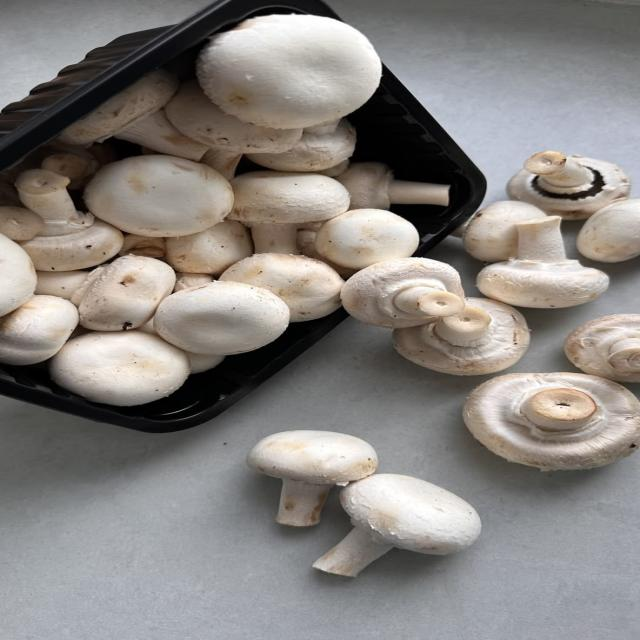champignon mushrooms: (197, 15, 381, 129), (463, 373, 639, 470), (314, 474, 480, 576), (165, 80, 302, 179), (59, 70, 206, 161), (247, 431, 378, 526), (85, 155, 233, 237), (477, 216, 608, 308), (16, 170, 123, 271), (50, 331, 189, 406), (394, 298, 529, 375), (154, 281, 289, 355), (229, 170, 349, 253), (341, 258, 465, 328), (220, 253, 344, 321), (507, 151, 630, 219), (73, 256, 175, 331), (315, 209, 419, 269), (248, 119, 355, 172), (0, 296, 78, 365), (337, 162, 450, 209), (461, 201, 546, 262), (565, 315, 639, 382), (166, 220, 253, 274), (577, 200, 639, 262), (0, 234, 36, 316), (297, 229, 357, 278), (41, 153, 99, 189), (35, 271, 90, 299), (0, 206, 44, 241), (120, 234, 166, 258), (184, 352, 225, 373), (186, 352, 225, 373), (174, 273, 212, 292), (0, 172, 20, 206), (318, 160, 350, 177)
